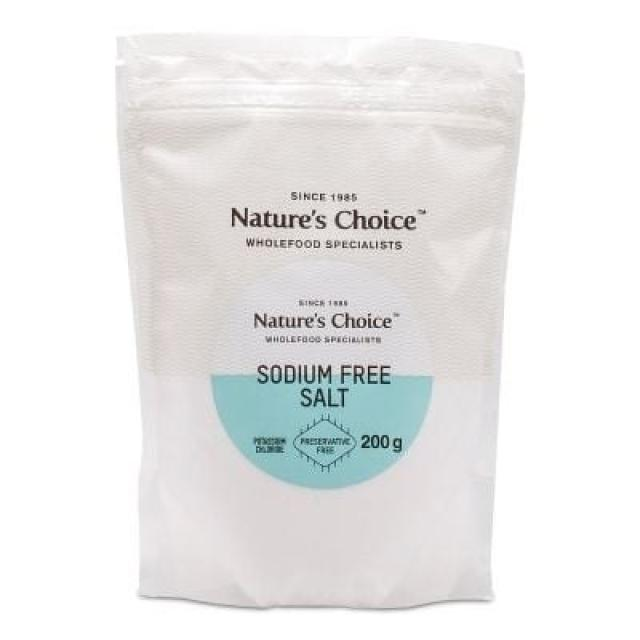food-package: (133, 43, 485, 587)
